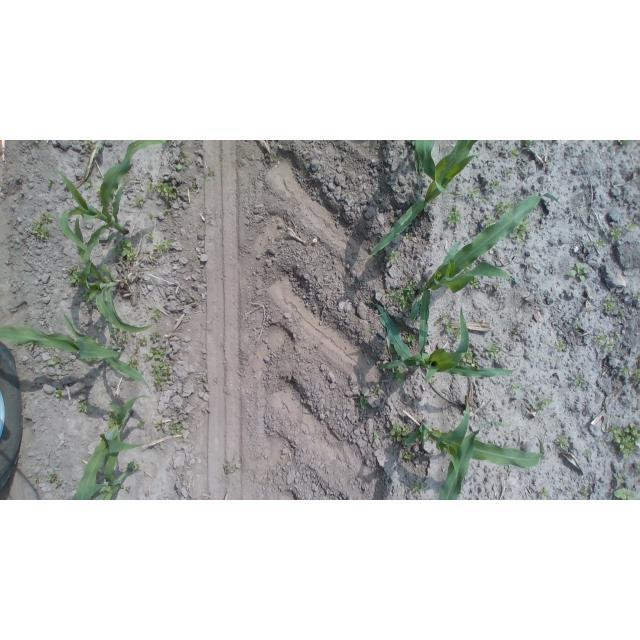Maize: (411, 192, 562, 357), (362, 140, 484, 264), (370, 286, 516, 386), (403, 397, 542, 499), (58, 142, 171, 263), (0, 314, 152, 390), (73, 214, 156, 333), (69, 395, 152, 500)
Weeds: (150, 331, 175, 389), (608, 421, 640, 459), (389, 278, 420, 315), (147, 180, 180, 202), (114, 238, 138, 268), (146, 234, 171, 259), (612, 477, 639, 500), (32, 211, 52, 242), (568, 262, 591, 283), (389, 424, 410, 445), (446, 205, 463, 229), (620, 364, 640, 384), (68, 266, 88, 286), (482, 416, 505, 432), (532, 395, 551, 414), (587, 236, 607, 254), (595, 333, 615, 351), (512, 218, 528, 240), (176, 151, 193, 171), (494, 202, 515, 218), (571, 374, 590, 391), (111, 330, 132, 345), (469, 186, 487, 203), (601, 295, 618, 313), (222, 461, 243, 475), (480, 213, 497, 230), (46, 472, 64, 488), (384, 250, 399, 267), (460, 352, 479, 365), (556, 434, 571, 450), (49, 353, 66, 367), (488, 342, 501, 360), (169, 421, 184, 436), (440, 317, 453, 334), (609, 226, 623, 241), (413, 479, 428, 493), (553, 338, 568, 352), (390, 370, 404, 385), (201, 167, 215, 182), (77, 399, 91, 414), (358, 395, 371, 411), (106, 411, 118, 428), (616, 308, 630, 322), (135, 195, 149, 209), (469, 277, 482, 292), (127, 358, 141, 371), (578, 485, 593, 496), (511, 382, 521, 397), (490, 181, 500, 196), (151, 308, 163, 320), (401, 451, 414, 462), (128, 462, 141, 473), (155, 419, 165, 433), (405, 333, 417, 344), (83, 177, 93, 189), (79, 141, 96, 148), (582, 448, 592, 459), (137, 337, 147, 348), (374, 385, 383, 397), (510, 149, 523, 157), (538, 487, 548, 497), (628, 222, 639, 231), (46, 179, 55, 189), (32, 474, 40, 485), (523, 141, 535, 148), (136, 420, 145, 429), (56, 390, 65, 399), (370, 429, 376, 442), (27, 343, 38, 350), (599, 437, 607, 446), (634, 463, 640, 475), (617, 140, 629, 146), (125, 485, 132, 494), (553, 413, 562, 420), (633, 294, 640, 302), (35, 140, 42, 144)
